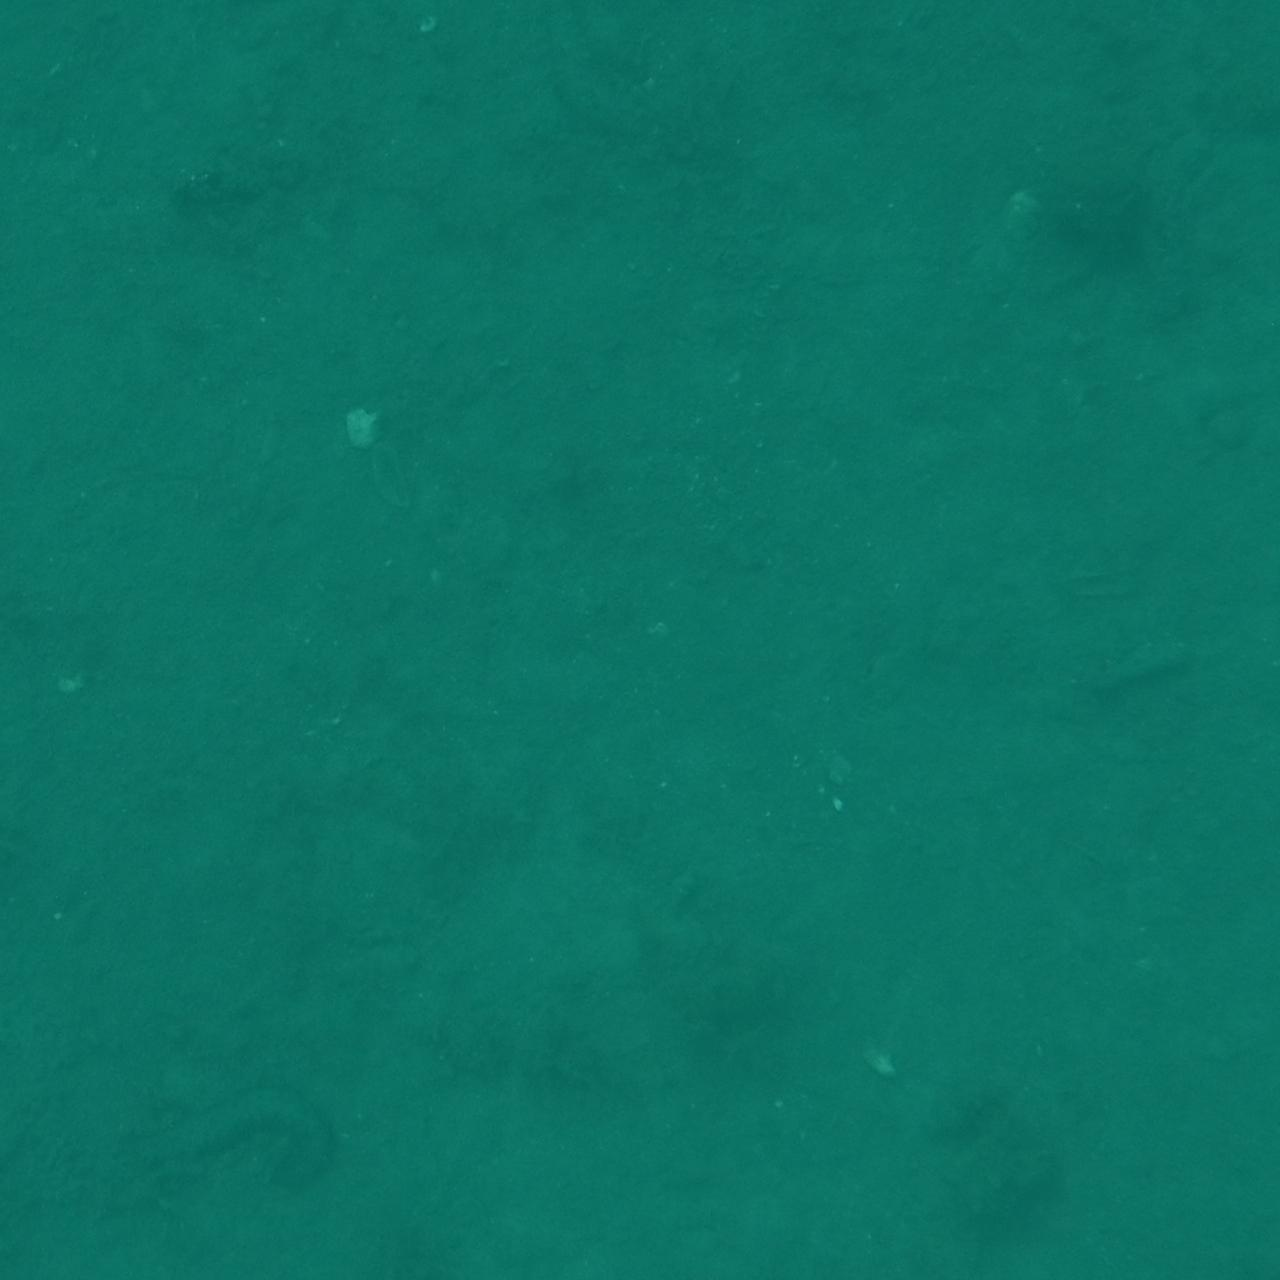Holothuria tubulosa: (504, 0, 710, 173), (114, 1077, 354, 1219), (1070, 873, 1280, 1021), (0, 799, 125, 1019), (1110, 628, 1280, 782), (1160, 0, 1280, 191), (551, 1167, 729, 1280), (0, 57, 73, 314), (506, 0, 680, 101), (0, 0, 198, 88), (0, 0, 173, 82), (0, 0, 105, 129), (945, 1219, 1167, 1280), (556, 1165, 668, 1280), (1151, 1180, 1280, 1280), (0, 1172, 109, 1280), (1157, 1185, 1280, 1280), (0, 1185, 116, 1280), (0, 552, 61, 731), (0, 0, 96, 103), (1164, 0, 1280, 80), (0, 1211, 132, 1280), (1200, 1175, 1280, 1280), (0, 0, 49, 116)
Rifiuto: (0, 1179, 132, 1280)
